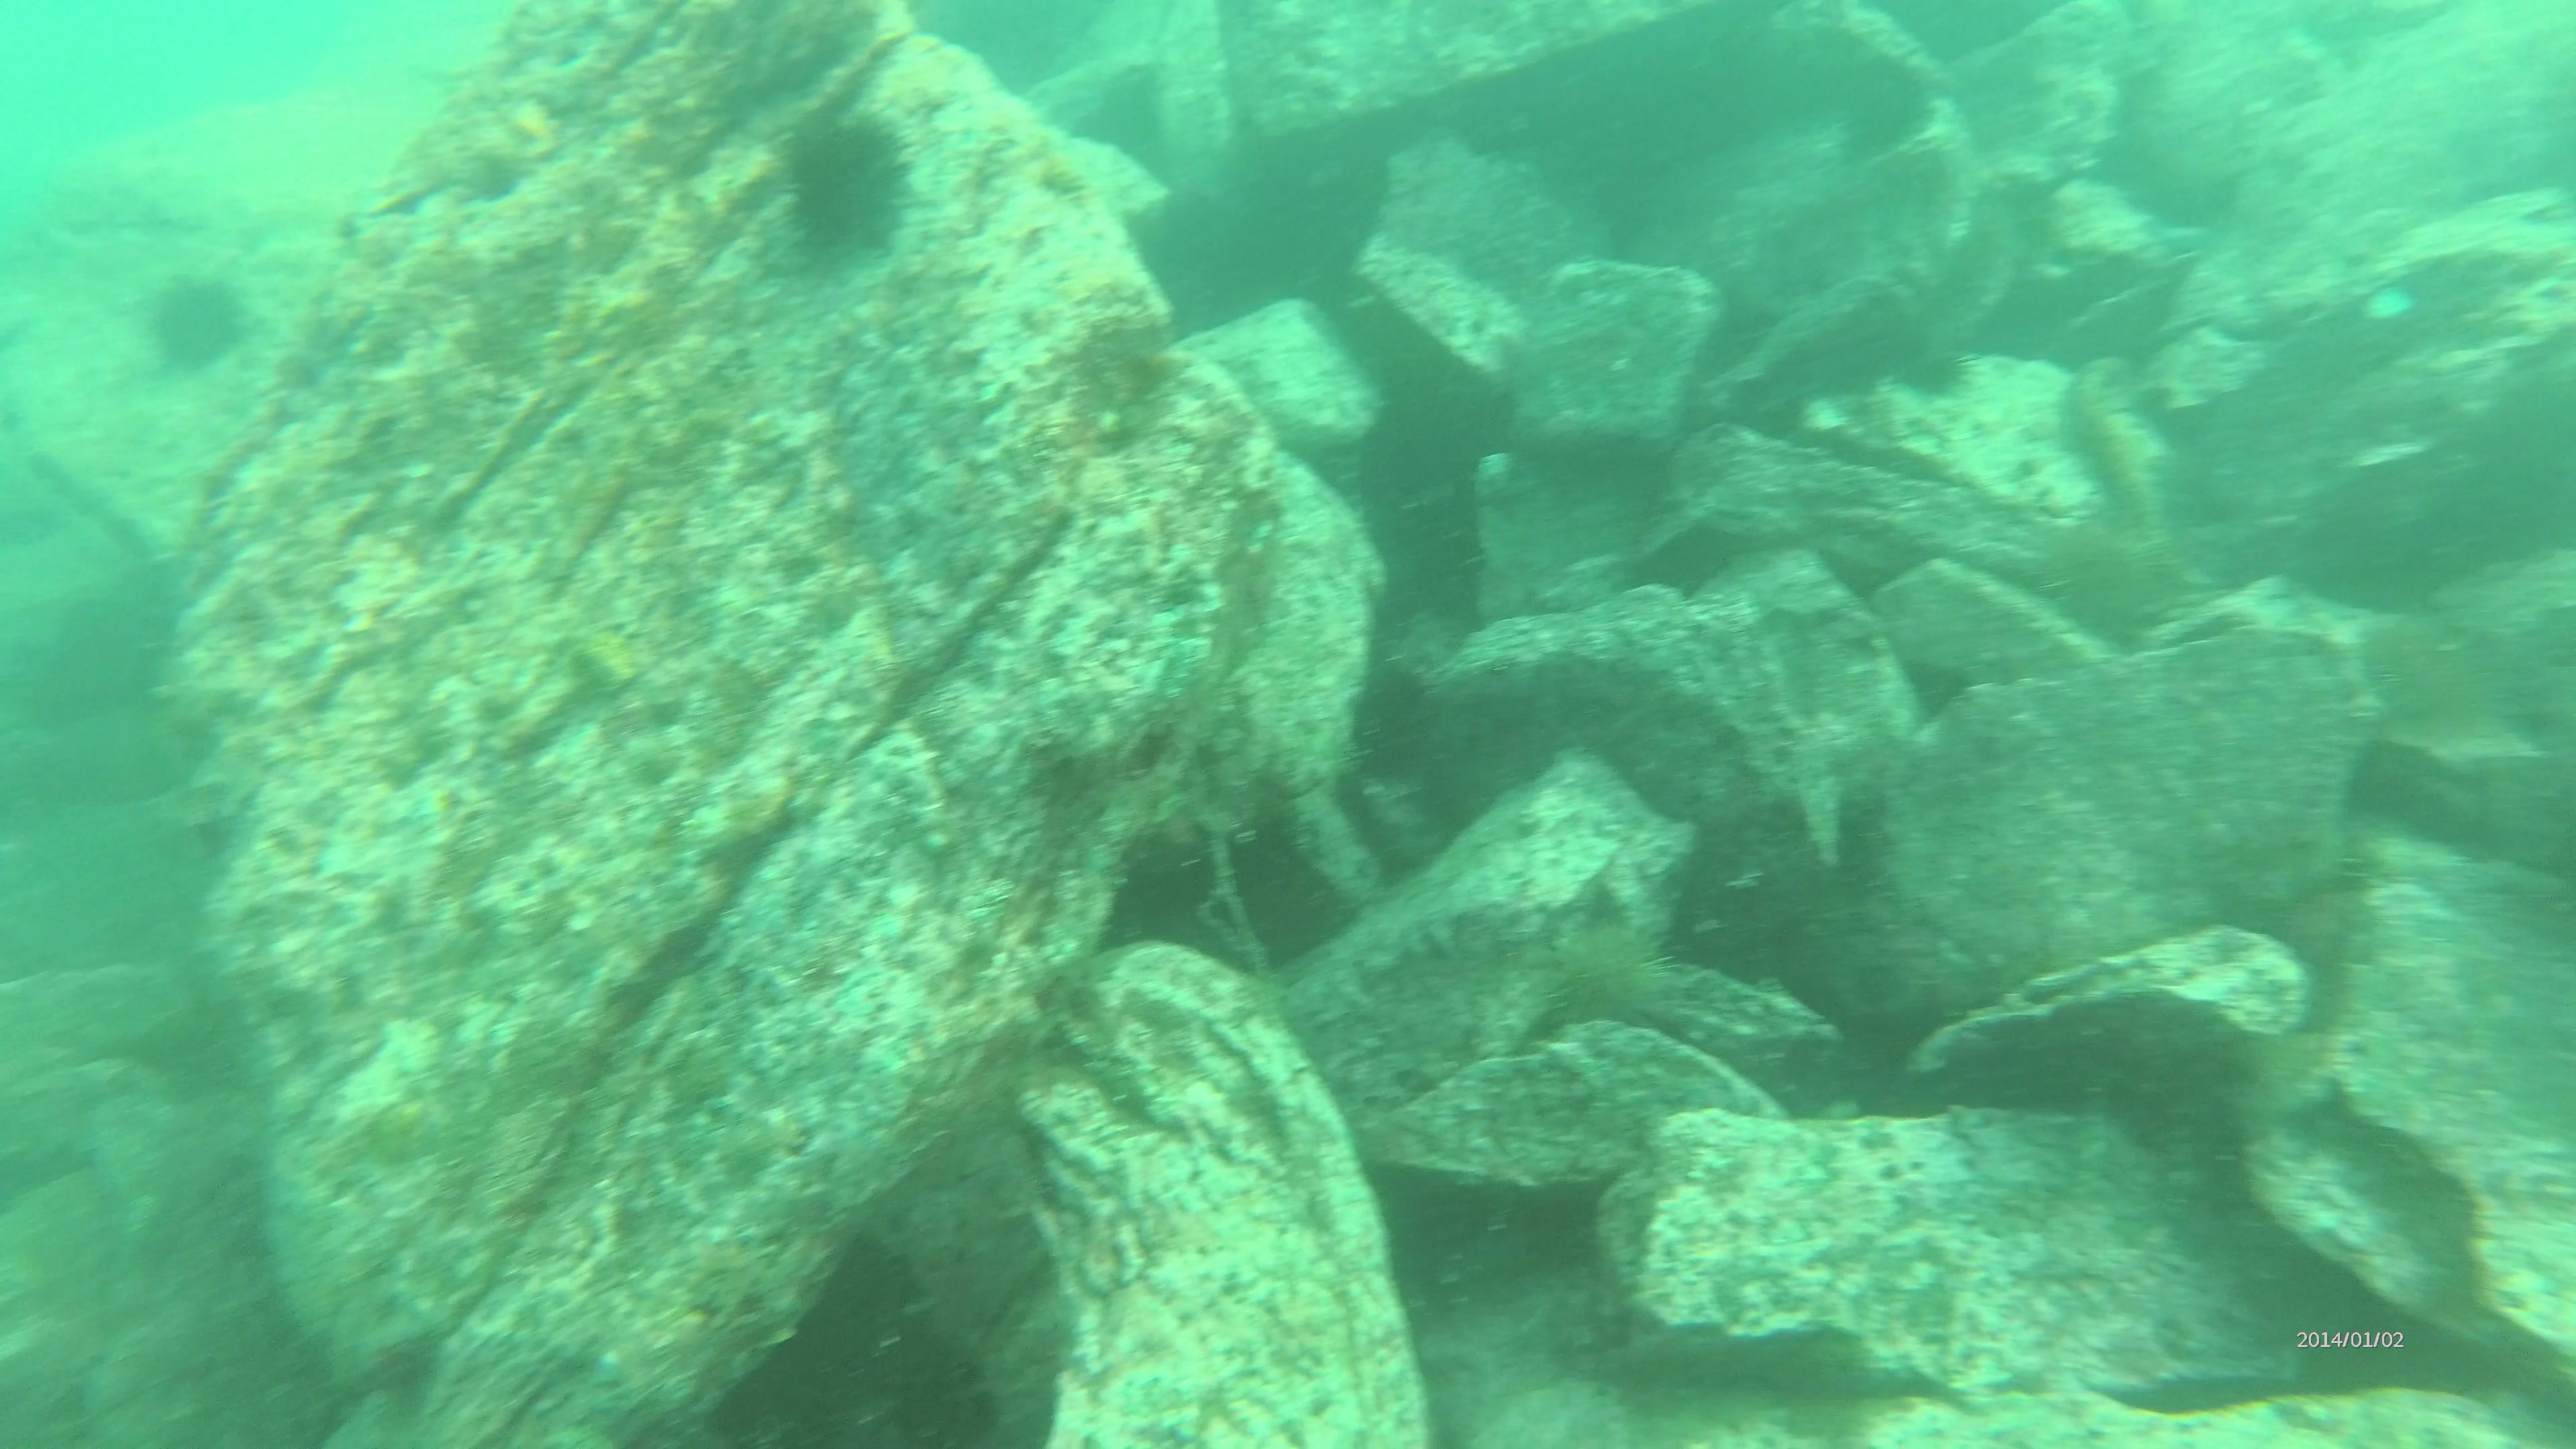echinus: (784, 92, 916, 274), (1553, 913, 1690, 1030), (2045, 517, 2155, 639), (138, 269, 257, 375), (1898, 333, 1994, 400)
holothurian: (2058, 384, 2173, 541)
